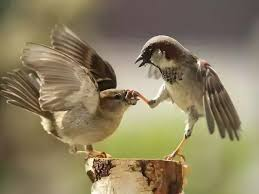hsparrow: (1, 17, 140, 160), (132, 31, 246, 171)
